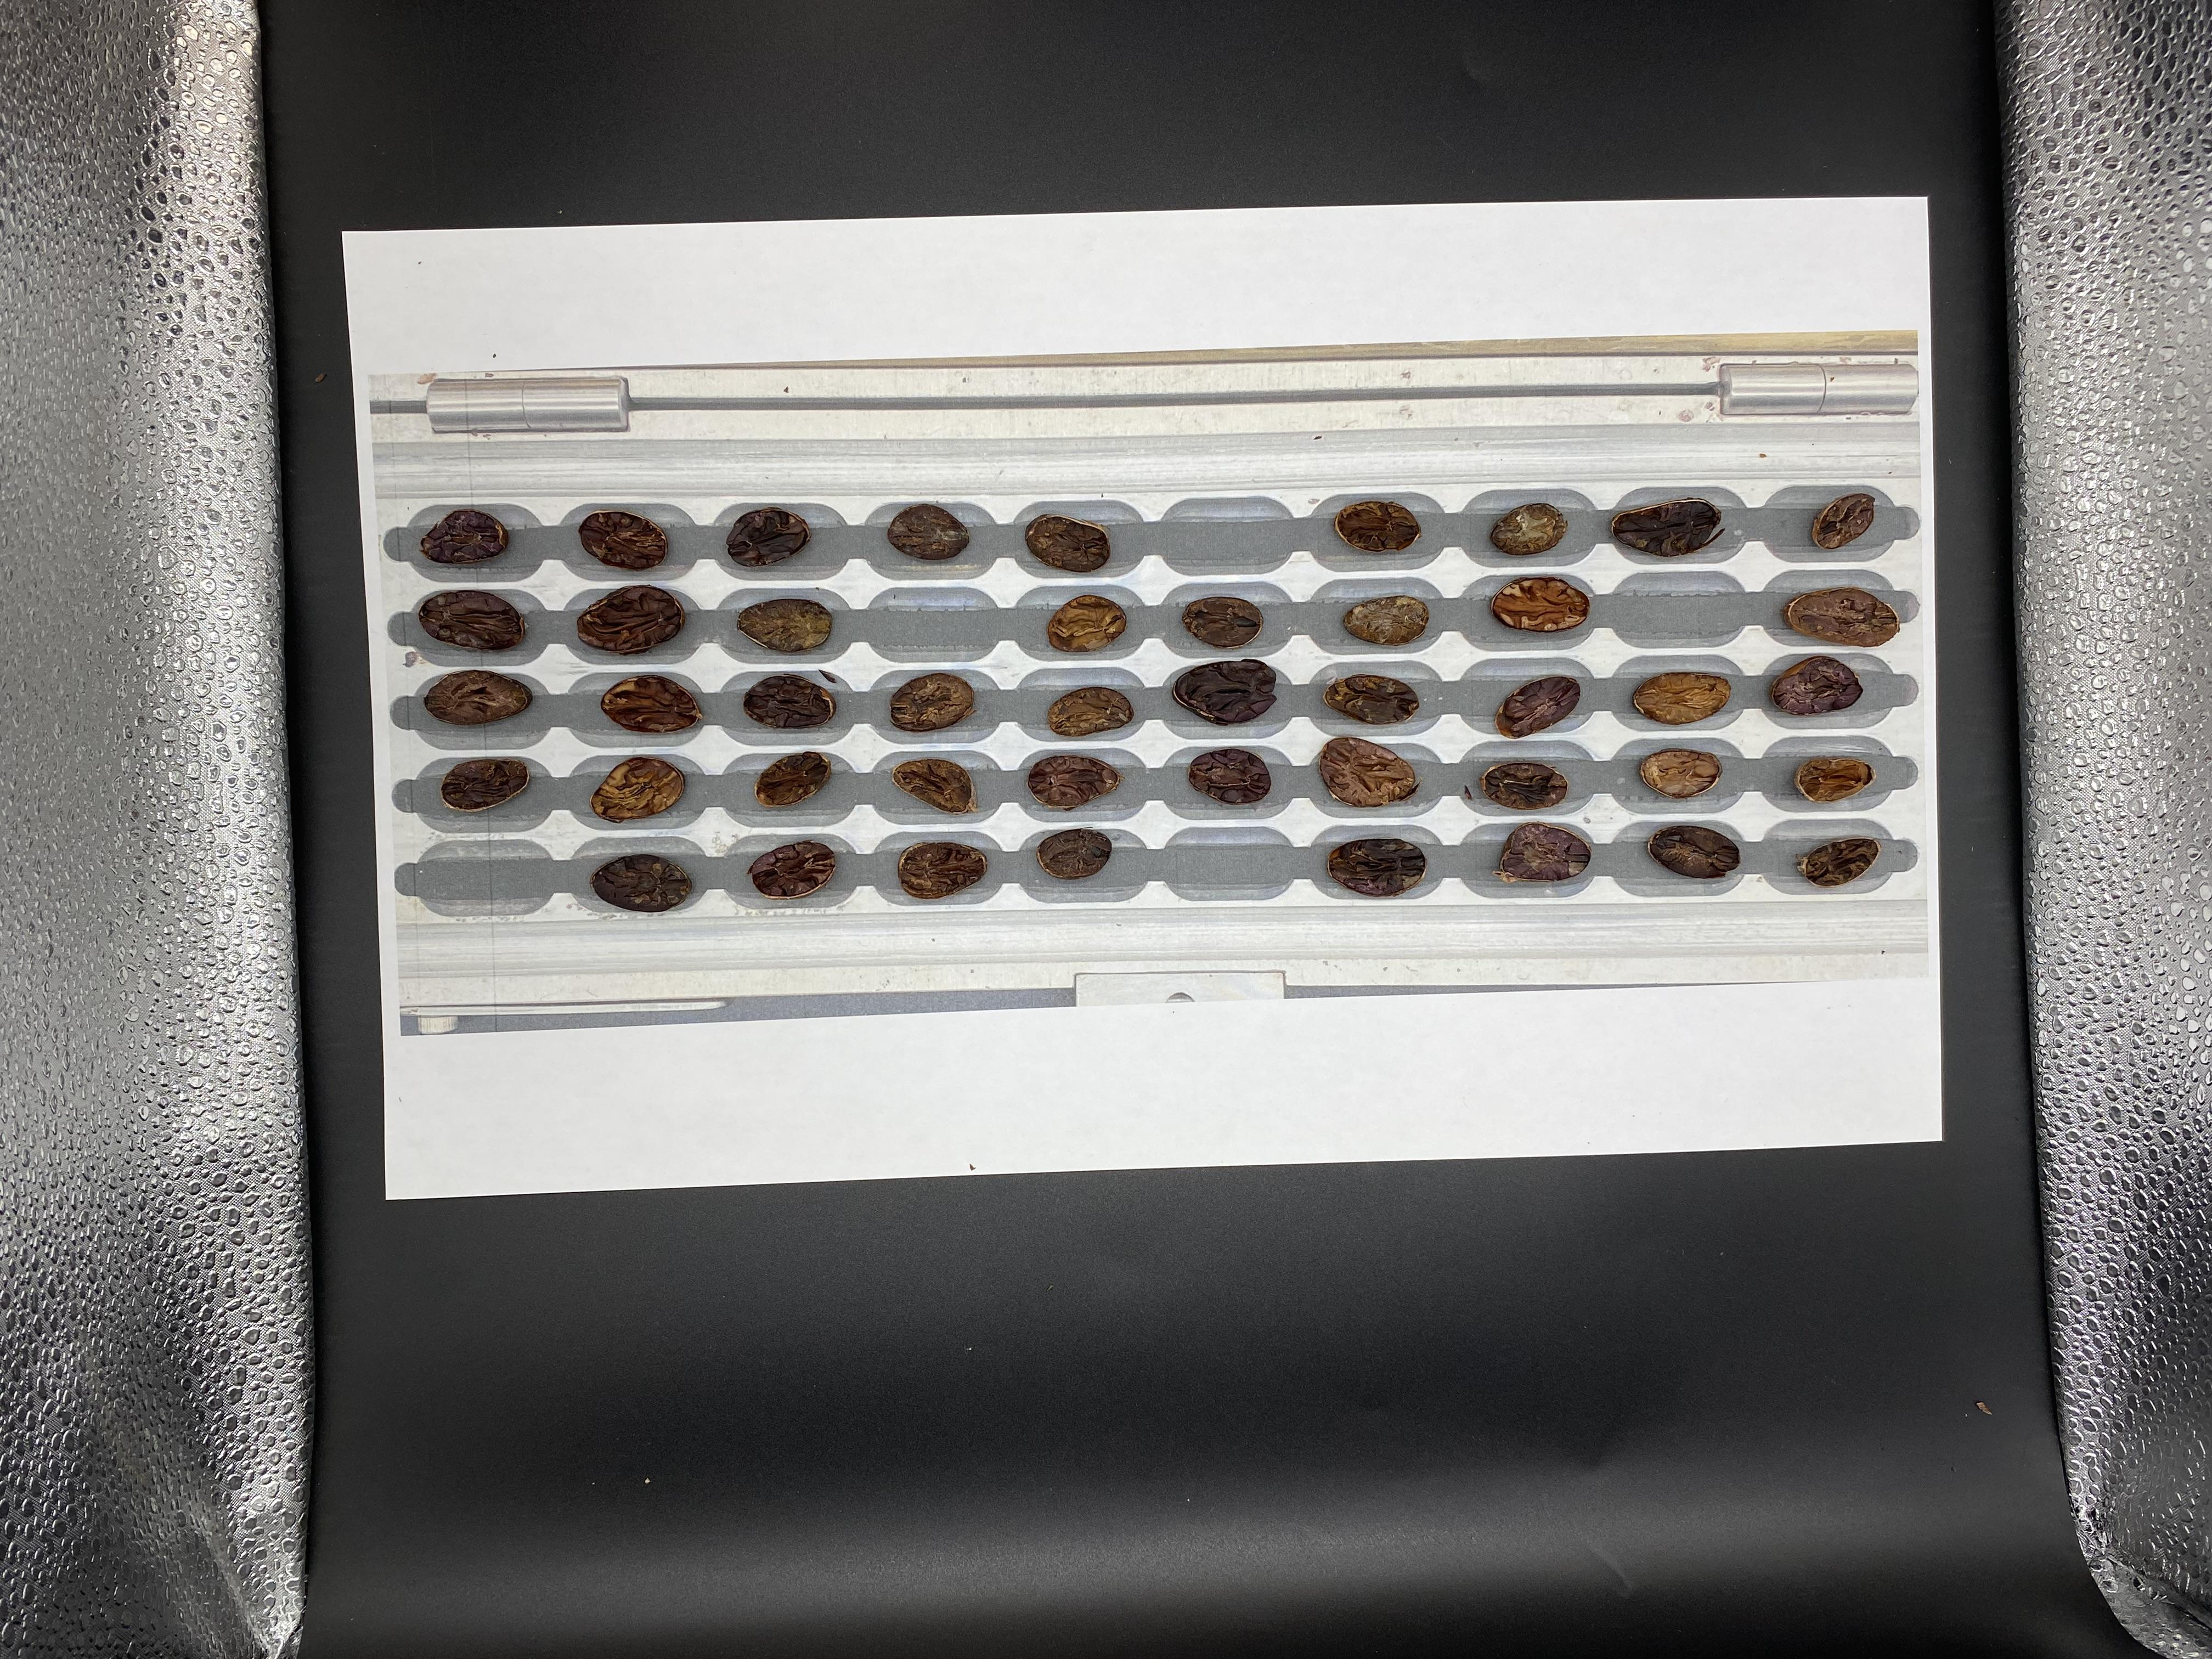Brown - G1: (291, 1112, 350, 1152), (303, 1157, 362, 1194), (754, 1107, 812, 1141), (909, 1199, 954, 1230)
Brown - G2: (667, 1190, 725, 1230), (296, 1199, 354, 1237), (674, 1066, 726, 1105), (378, 1195, 428, 1234), (517, 1199, 575, 1230), (293, 1073, 343, 1108), (451, 1199, 500, 1234), (453, 1243, 503, 1276), (529, 1117, 577, 1152)
Brown - G3: (902, 1112, 970, 1150), (212, 1154, 275, 1190), (826, 1155, 881, 1190), (519, 1072, 568, 1110), (916, 1061, 958, 1101), (526, 1161, 578, 1192), (451, 1157, 500, 1190), (597, 1117, 644, 1148), (833, 1195, 880, 1227)
Insect-damaged: (371, 1119, 427, 1152)
Mouldy: (524, 1234, 571, 1269), (449, 1070, 496, 1105), (681, 1117, 728, 1150), (754, 1070, 799, 1101)
Partly Purple - G1: (592, 1150, 653, 1188), (378, 1241, 428, 1279)
Partly Purple - G2: (815, 1065, 880, 1103), (212, 1112, 272, 1150), (672, 1241, 730, 1277), (597, 1194, 651, 1230), (374, 1157, 430, 1190), (751, 1199, 801, 1230)
Partly Purple - G3: (754, 1155, 806, 1194)
Total Purple - G2: (211, 1072, 265, 1107)
Total Purple - G3: (756, 1230, 812, 1272), (897, 1150, 951, 1183)
Very Dark Brown - G1: (911, 1239, 956, 1272)
Very Dark Brown - G2: (221, 1199, 272, 1236), (368, 1072, 415, 1110)
Very Dark Brown - G3: (296, 1248, 357, 1284), (833, 1234, 888, 1267), (669, 1157, 725, 1188)
